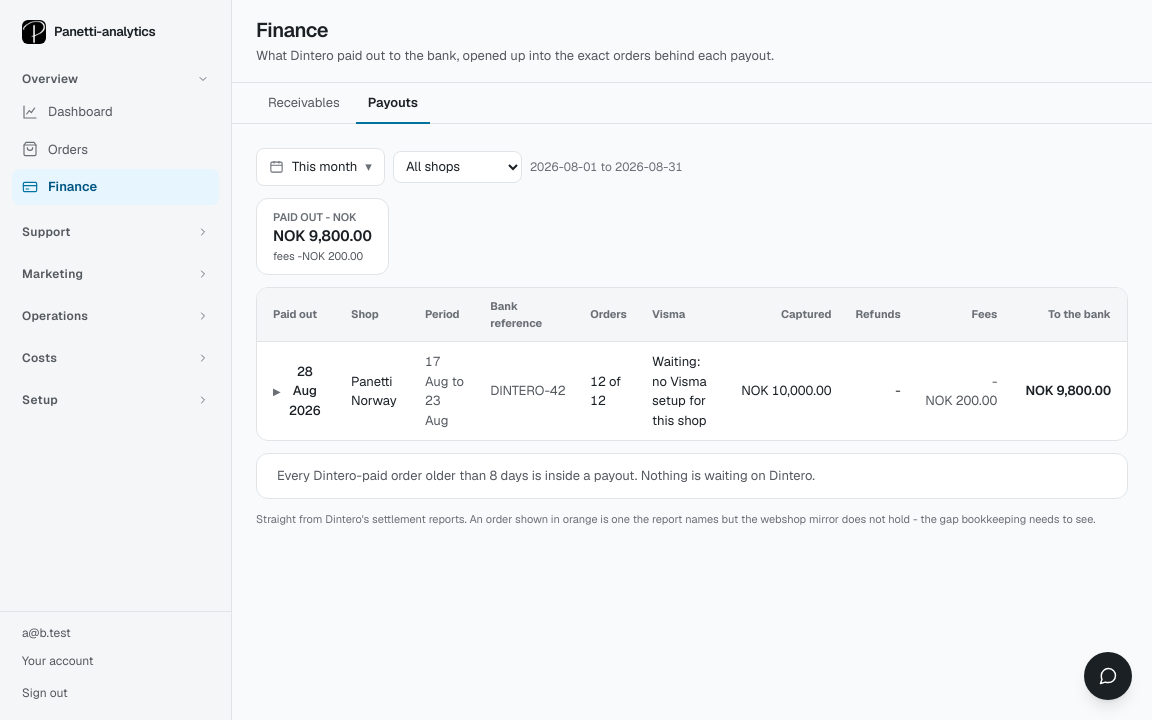
it: PayoutsClient › opens a payout into its orders and names the reference nobody wears
This screenshot has width=1152, height=720.
Click the button with aria-label "Open payout".
click(298, 391)  # box [273,362,323,420]
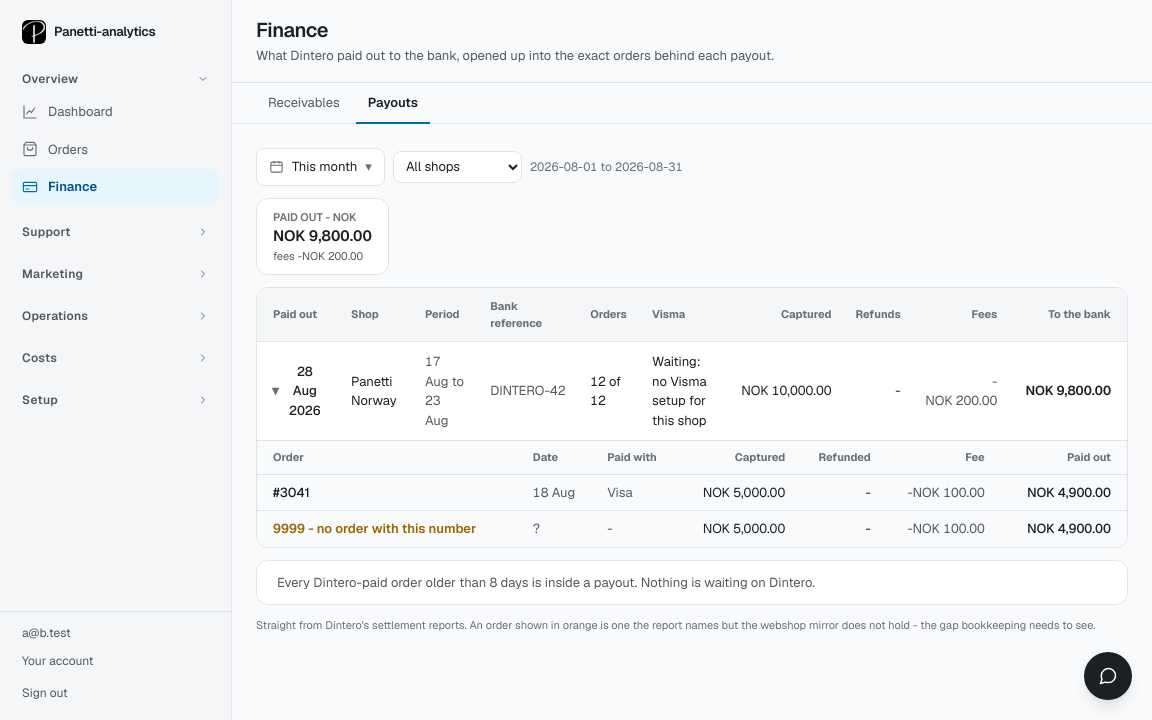
Now the text "#3041" is shown, box [273,484,310,500]
Now the text "9999 - no order with this number" is shown, box [273,520,476,537]
Now the text "Visa" is shown, box [595,474,678,510]
